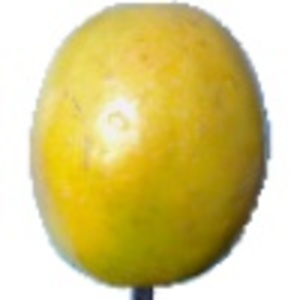maracujá: (28, 2, 274, 300)
